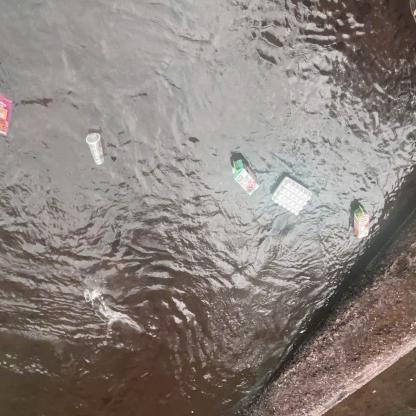Plastic: (269, 173, 316, 219), (84, 125, 108, 169)
